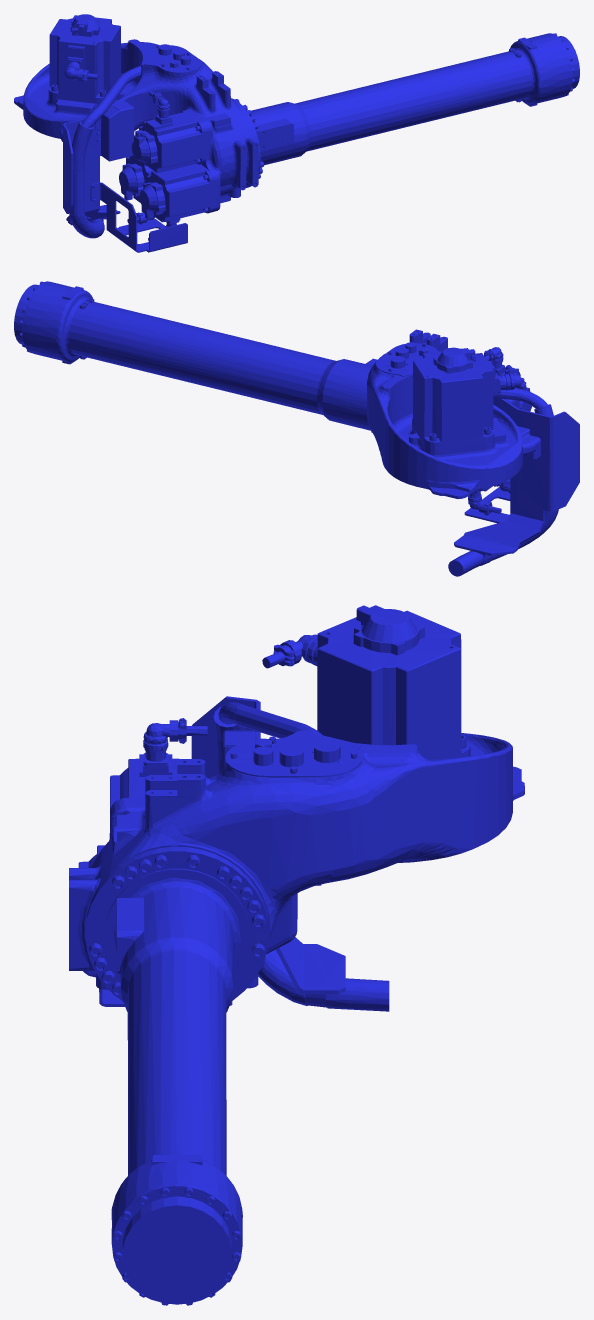
3 renders of one model, top to bottom at view 1: azimuth 30°, elevation 25°; view 2: azimuth 150°, elevation 25°; view 3: azimuth 270°, elevation 25°, orthographic. The views are drawn at different scales.
Visible parts, largest first — view 1: /Link3/Link3_004-mesh/0; view 2: /Link3/Link3_004-mesh/0; view 3: /Link3/Link3_004-mesh/0.
Part boxes in pixels (x1,y1,x2,y2): /Link3/Link3_004-mesh/0: (14, 14, 579, 252); /Link3/Link3_004-mesh/0: (14, 281, 579, 576); /Link3/Link3_004-mesh/0: (69, 605, 524, 1305).
Size of the model in its own units: 1.6 by 0.6188 by 0.6448.
